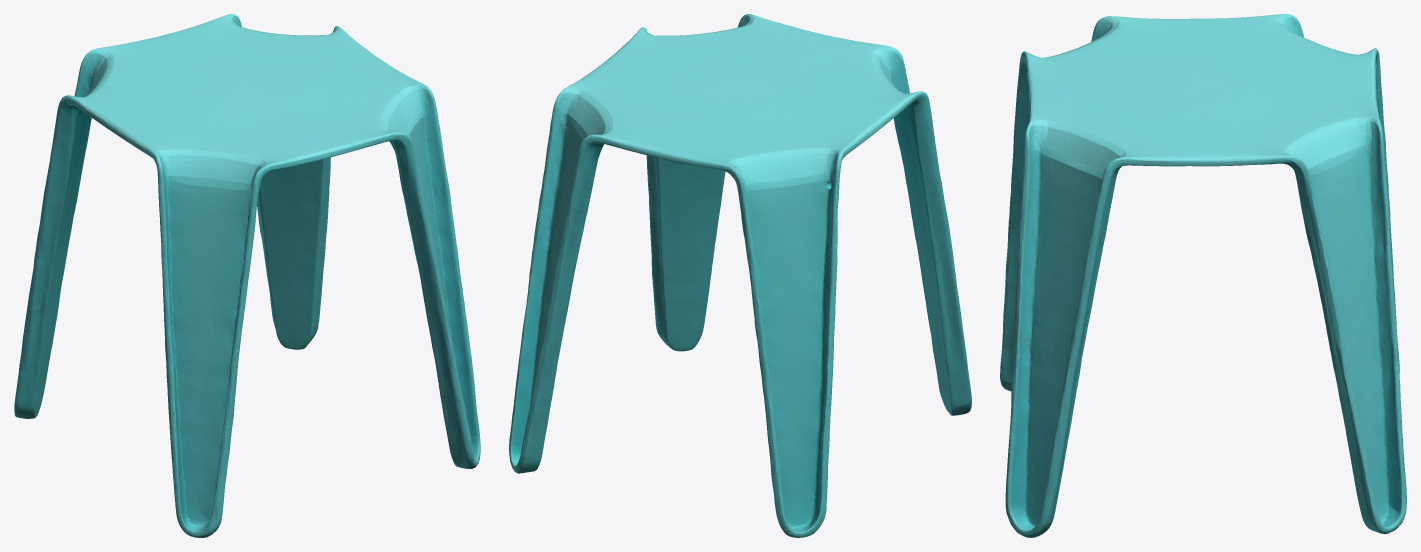
The model's file is bàn.fbx.
3 renders of one model, left to right at view 1: azimuth 30°, elevation 25°; view 2: azimuth 150°, elevation 25°; view 3: azimuth 270°, elevation 25°, orthographic. The views are drawn at different scales.
Parts seen in each view (by area): view 1: world; view 2: world; view 3: world.
Boxes of the visible parts, x1,y1,x2,y2 form: world: (14,14,480,537); world: (509,14,971,537); world: (1000,14,1406,537).
Bounding box in the file's own units: 0.9419 × 0.9991 × 0.9809.
Materials: 1 (1 with a texture image).
